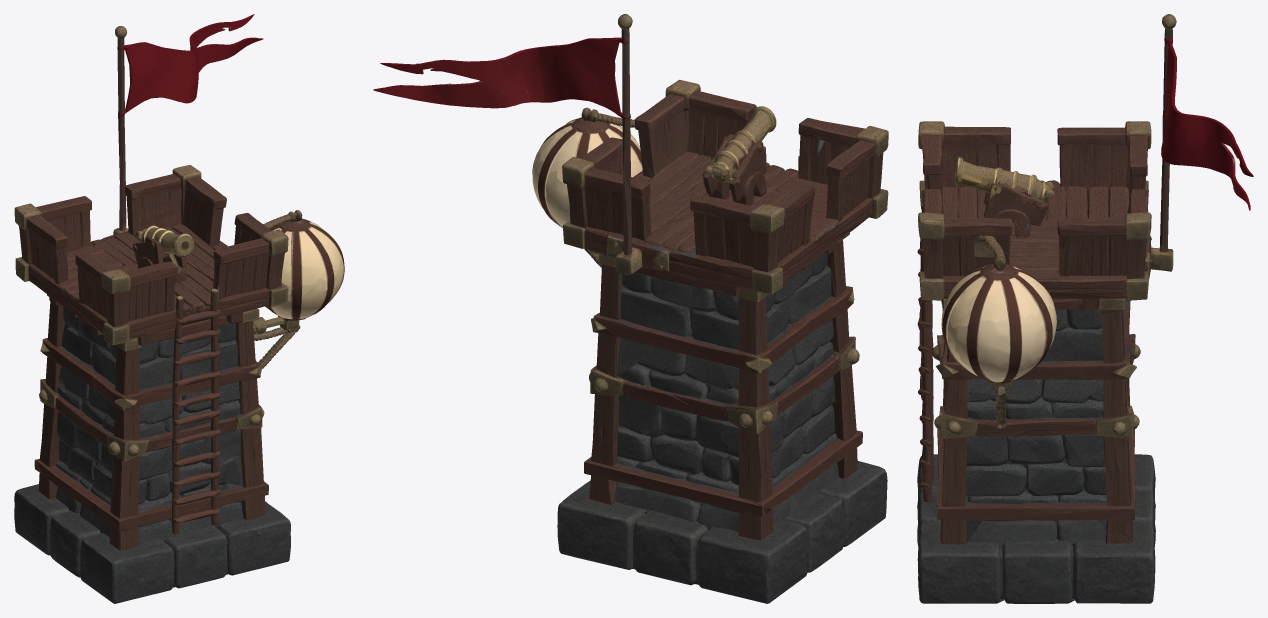
3 views of the same model, side by side, from view 1: azimuth 30°, elevation 25°; view 2: azimuth 150°, elevation 25°; view 3: azimuth 270°, elevation 25° (orthographic). The views are drawn at different scales.
Size of the model in its own units: 1.23 by 1.9 by 1.05.
Materials: 1 (1 with a texture image).
